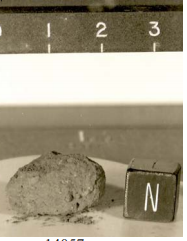Breccia: (7, 147, 109, 219)
